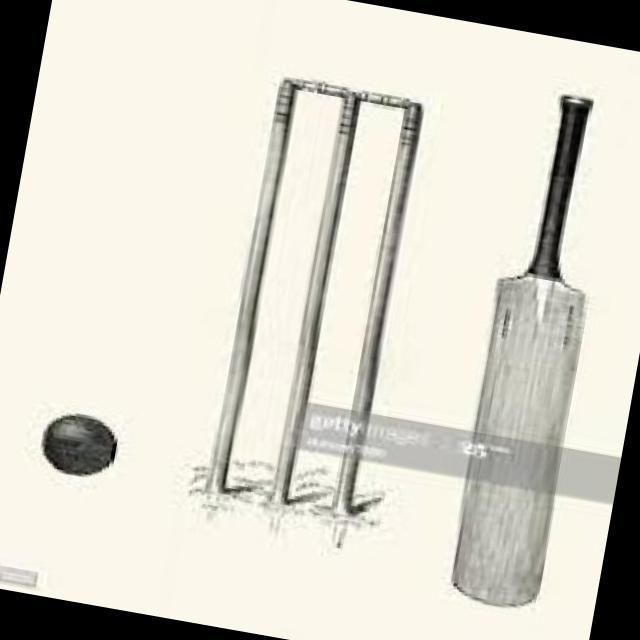-: (31, 404, 144, 497)
